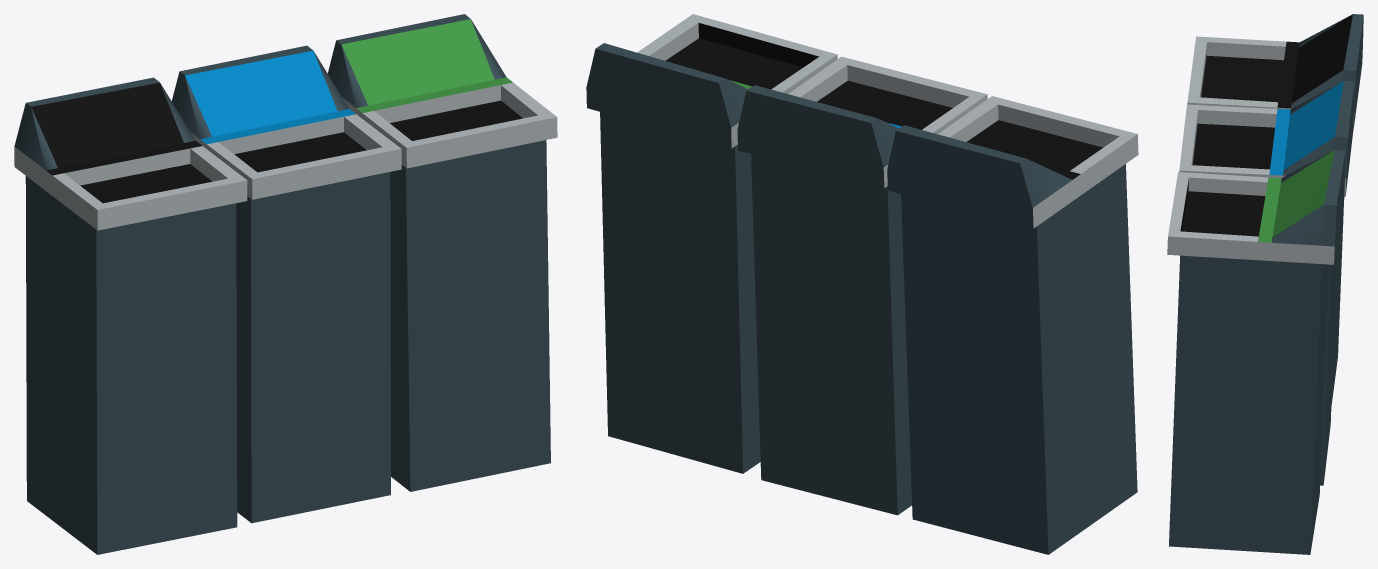
3 renders of one model, left to right at view 1: azimuth 30°, elevation 25°; view 2: azimuth 150°, elevation 25°; view 3: azimuth 270°, elevation 25°, orthographic. The views are drawn at different scales.
Parts seen in each view (by area): view 1: node_MeshObject-441663488-PolyPaper21; view 2: node_MeshObject-441663488-PolyPaper21; view 3: node_MeshObject-441663488-PolyPaper21.
Boxes of the visible parts, <box> form: node_MeshObject-441663488-PolyPaper21: <box>14,14,557,554</box>; node_MeshObject-441663488-PolyPaper21: <box>586,14,1138,554</box>; node_MeshObject-441663488-PolyPaper21: <box>1167,14,1363,554</box>.
Bounding box in the file's own units: 1.88 × 1.53 × 0.7753.
